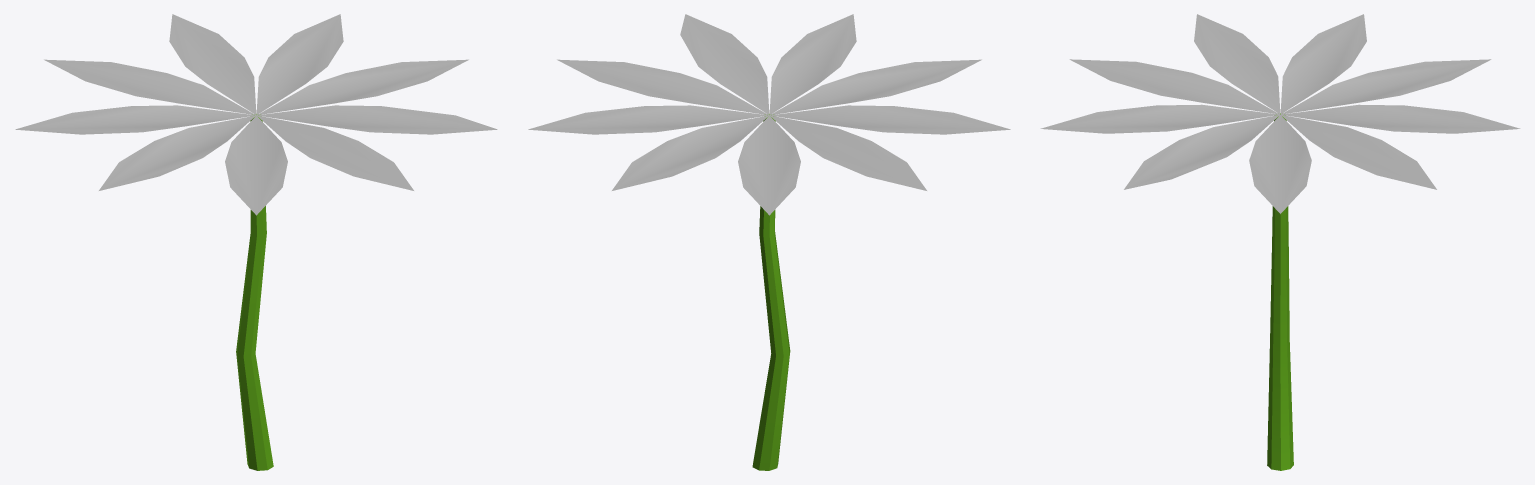
File: Flower 7.fbx
3 renders of one model, left to right at view 1: azimuth 30°, elevation 25°; view 2: azimuth 150°, elevation 25°; view 3: azimuth 270°, elevation 25°, orthographic.
Visible parts, largest first — view 1: Flower_7; view 2: Flower_7; view 3: Flower_7.
Part boxes in pixels (x1,y1,x2,y2): Flower_7: (15, 14, 497, 470); Flower_7: (528, 14, 1010, 470); Flower_7: (1040, 14, 1520, 470).
Size of the model in its own units: 70.09 by 57.75 by 71.17.
Materials: 1 (1 with a texture image).
